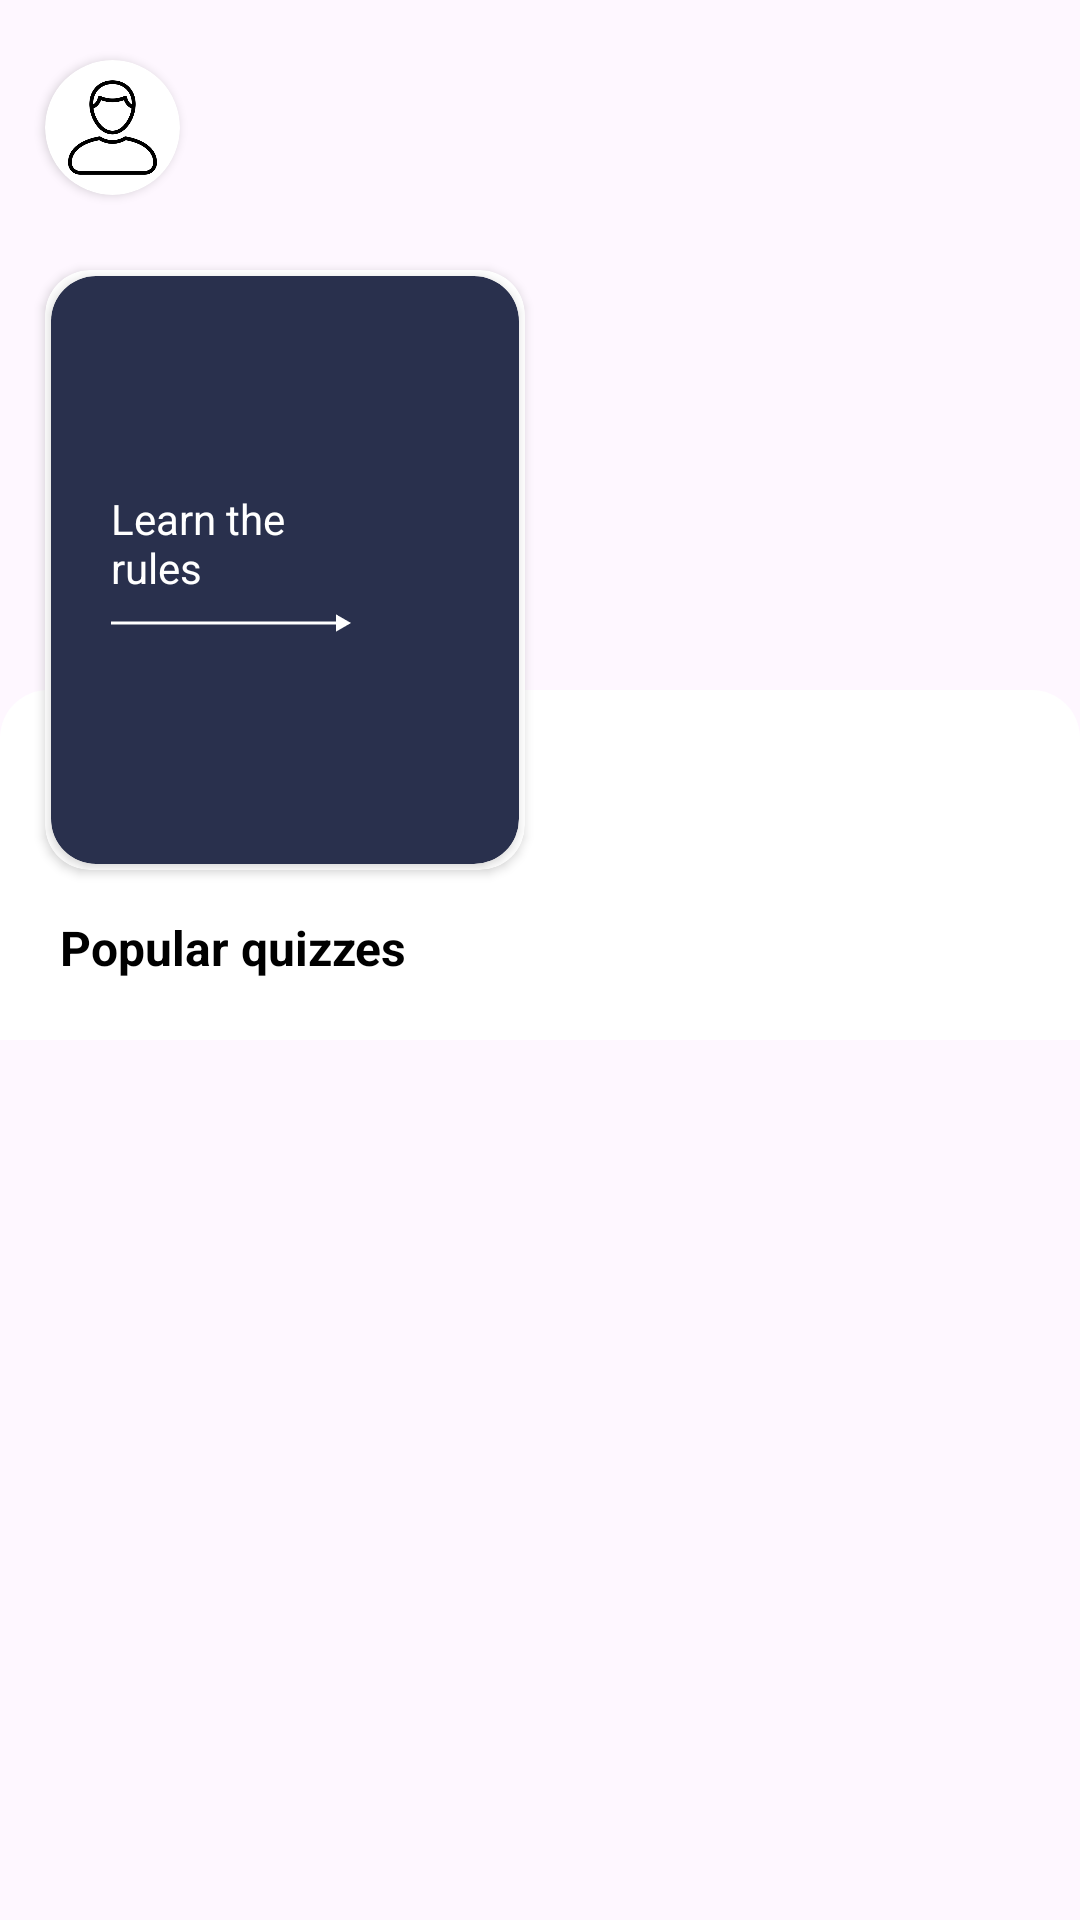

Locate icon controls on the screen. Image size 1080x1920, boxes as [left=x1, top=y1, right=x2, bottom=y2].
user: [left=45, top=60, right=180, bottom=195]
